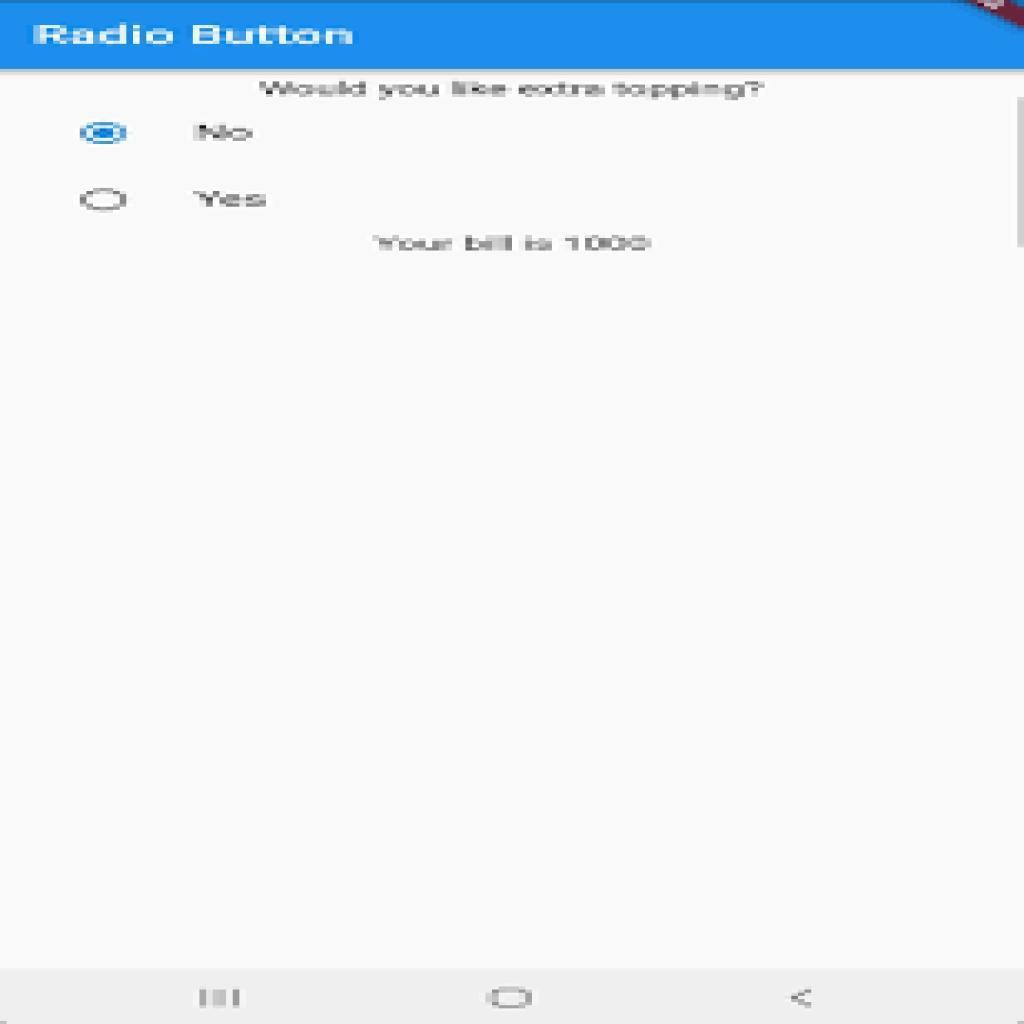radio: (79, 122, 131, 149), (80, 187, 128, 216)
